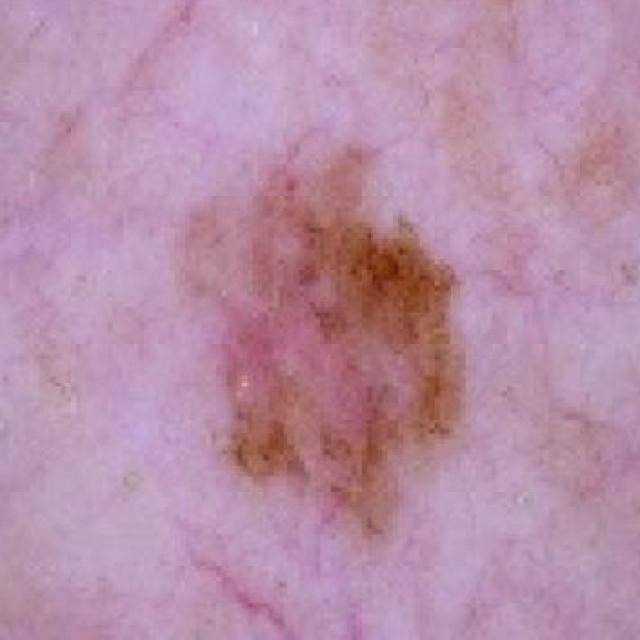MEL: (105, 54, 503, 576)
